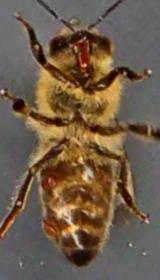varroa_mite: (36, 164, 64, 199), (38, 214, 62, 242)
